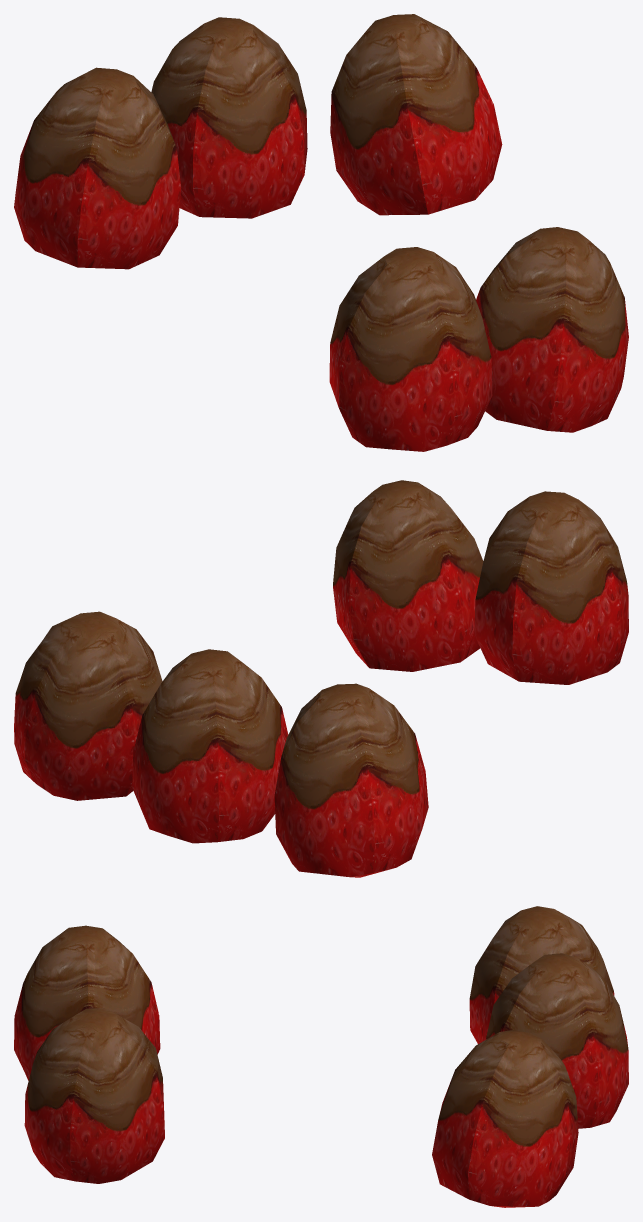
The model's file is strawice.obj.
3 renders of one model, top to bottom at view 1: azimuth 30°, elevation 25°; view 2: azimuth 150°, elevation 25°; view 3: azimuth 270°, elevation 25°, orthographic. The views are drawn at different scales.
Visible parts, largest first — view 1: event_obj_kt3_chocolatesundae_root_000_ncl1_1.004; view 2: event_obj_kt3_chocolatesundae_root_000_ncl1_1.004; view 3: event_obj_kt3_chocolatesundae_root_000_ncl1_1.004.
Boxes of the visible parts, x1,y1,x2,y2 form: event_obj_kt3_chocolatesundae_root_000_ncl1_1.004: [14, 14, 628, 451]; event_obj_kt3_chocolatesundae_root_000_ncl1_1.004: [14, 480, 628, 877]; event_obj_kt3_chocolatesundae_root_000_ncl1_1.004: [14, 906, 628, 1207].
Bounding box in the file's own units: 29.86 × 14.38 × 41.31.
